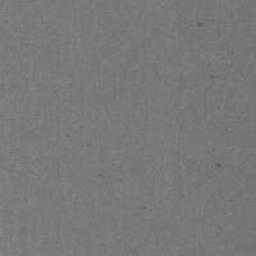Inclusion: (33, 113, 41, 122), (209, 74, 218, 81), (141, 202, 148, 211), (196, 22, 206, 28), (215, 163, 224, 169), (95, 172, 102, 179), (64, 132, 70, 140)
